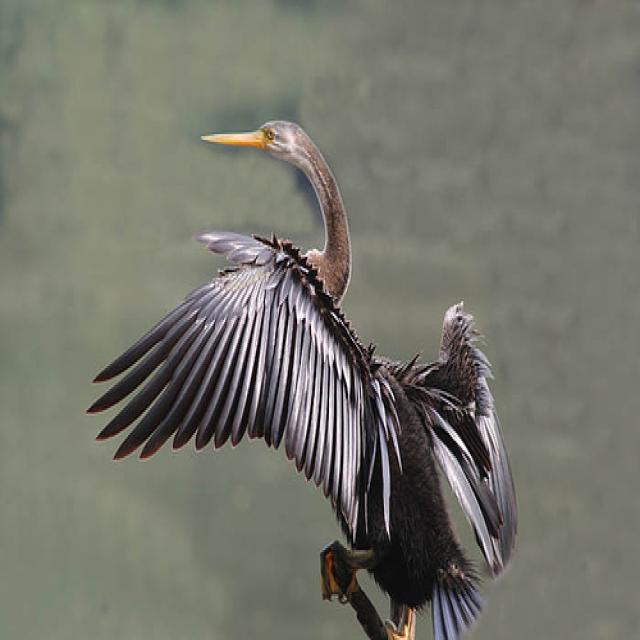bird: (86, 118, 518, 639)
